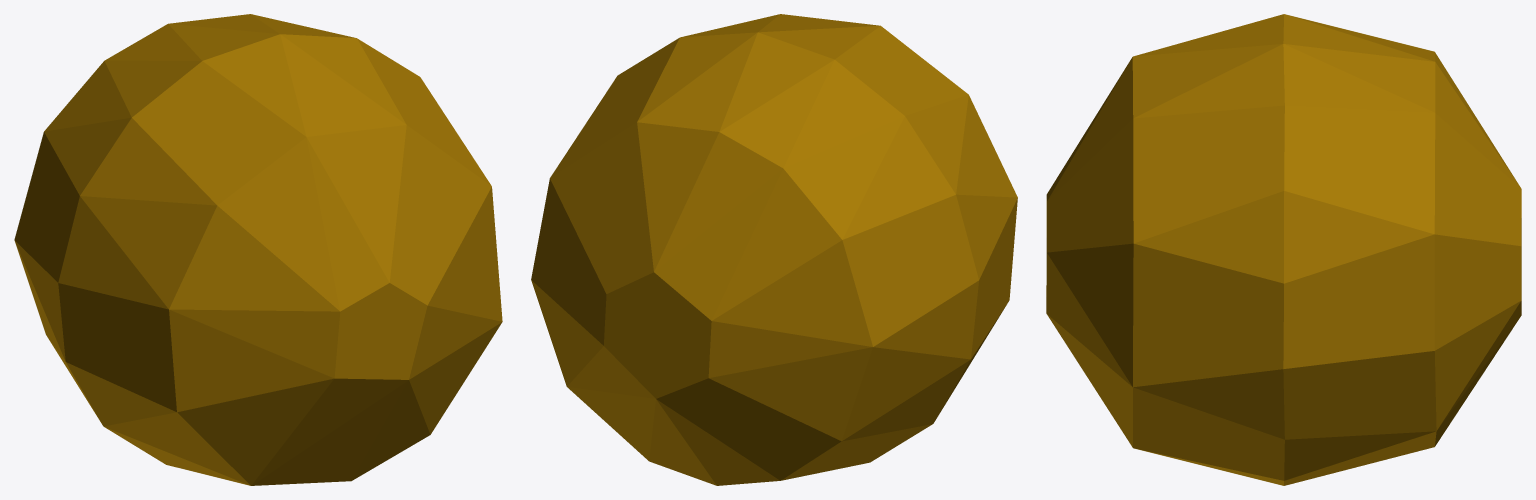
File: doughBall.obj
The picture shows the model from 3 angles, left to right: view 1: azimuth 30°, elevation 25°; view 2: azimuth 150°, elevation 25°; view 3: azimuth 270°, elevation 25°; orthographic projection.
Parts seen in each view (by area): view 1: Cylinder; view 2: Cylinder; view 3: Cylinder.
Boxes of the visible parts, x1,y1,x2,y2 form: Cylinder: (14,14,502,485); Cylinder: (531,14,1017,485); Cylinder: (1046,14,1521,485).
Size of the model in its own units: 0.0418 by 0.0418 by 0.0418.
